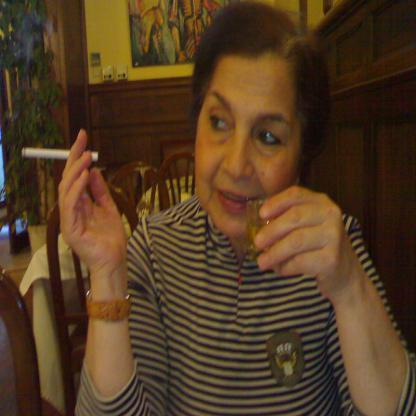drinking: (246, 199, 280, 262)
smoking: (21, 147, 99, 162)
